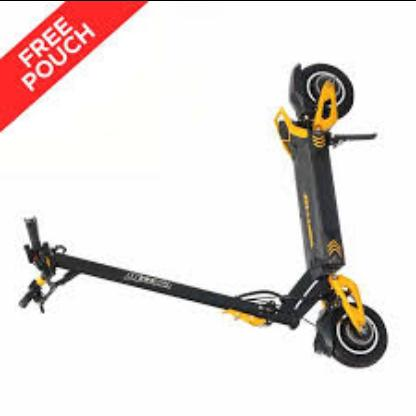bike: (14, 63, 389, 370)
